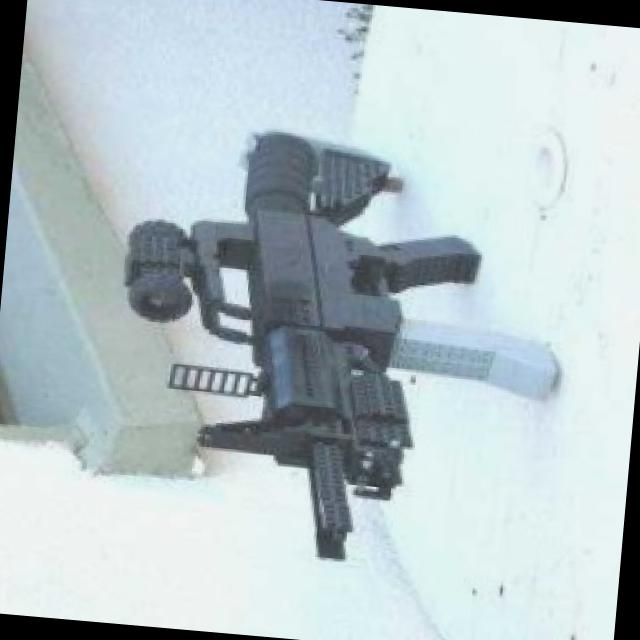long weapon: (99, 92, 584, 593)
